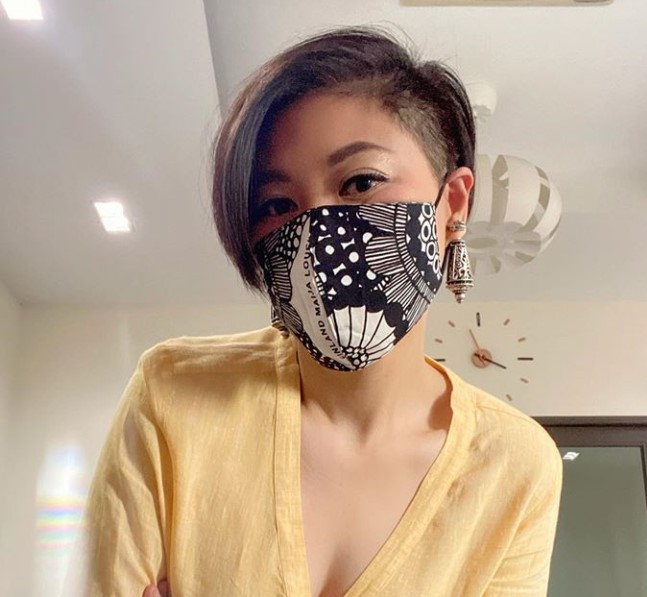face_with_mask: (235, 60, 473, 375)
